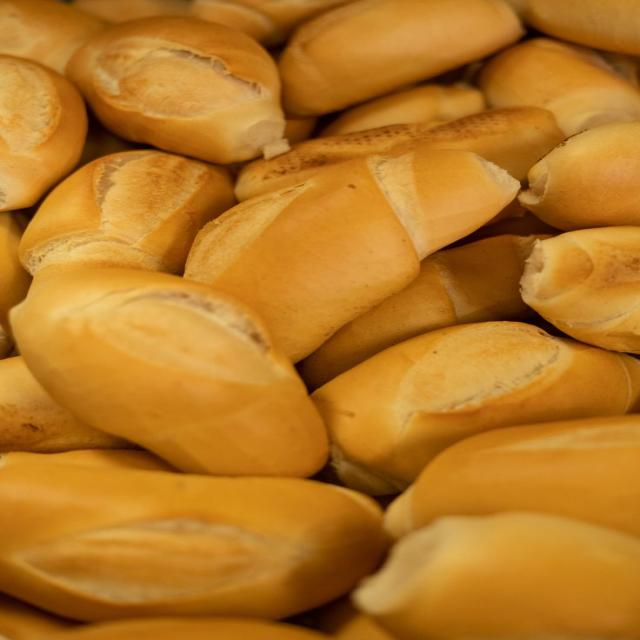bread: (185, 149, 519, 361), (11, 268, 327, 476), (0, 464, 386, 620), (313, 322, 639, 494), (299, 235, 539, 388), (354, 512, 639, 639), (67, 17, 287, 163), (386, 414, 639, 536), (235, 107, 564, 200), (280, 0, 522, 115), (20, 149, 234, 274), (480, 38, 639, 135), (521, 227, 639, 353), (0, 54, 86, 211), (519, 122, 639, 230), (0, 357, 133, 453), (322, 84, 485, 136), (0, 0, 104, 73), (191, 0, 352, 46), (40, 616, 328, 639), (522, 0, 639, 55), (454, 201, 560, 245), (189, 0, 277, 44), (0, 449, 174, 471), (78, 112, 143, 168), (0, 212, 30, 332), (0, 595, 76, 639), (314, 598, 395, 639), (72, 0, 193, 22), (285, 117, 317, 143)
